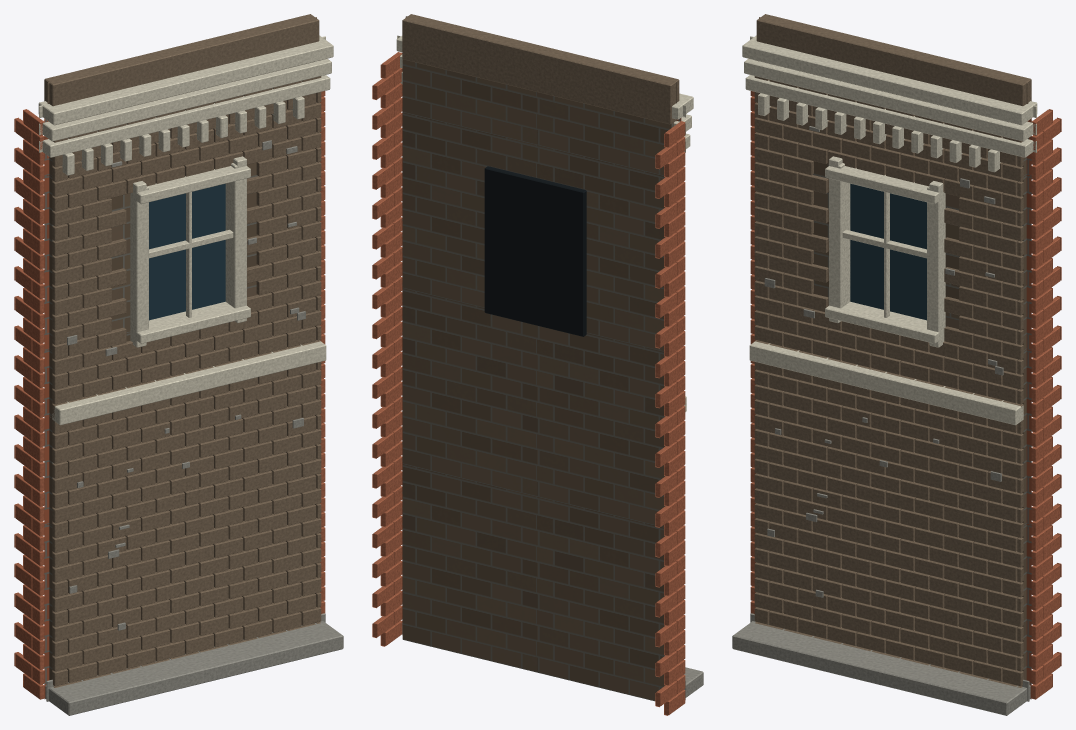
The model's file is WHSE13_lod0.glb.
The picture shows the model from 3 angles, left to right: view 1: azimuth 30°, elevation 25°; view 2: azimuth 150°, elevation 25°; view 3: azimuth 330°, elevation 25°; orthographic projection.
Parts seen in each view (by area): view 1: WHSE13_FRONT_LOD0; view 2: WHSE13_FRONT_LOD0; view 3: WHSE13_FRONT_LOD0.
Boxes of the visible parts, <box> form: WHSE13_FRONT_LOD0: <box>14,14,343,715</box>; WHSE13_FRONT_LOD0: <box>372,14,703,715</box>; WHSE13_FRONT_LOD0: <box>732,14,1061,715</box>.
Size of the model in its own units: 3.44 by 7.05 by 1.02.
Materials: 13 (11 with a texture image).
